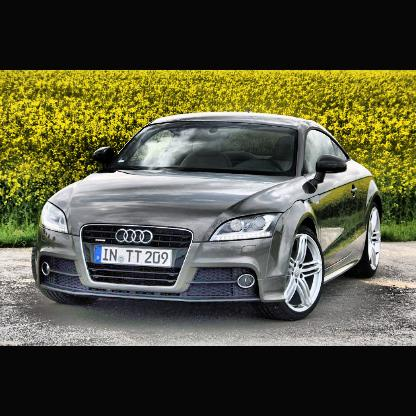Audi TT Hatchback 2011: (32, 109, 387, 322)
